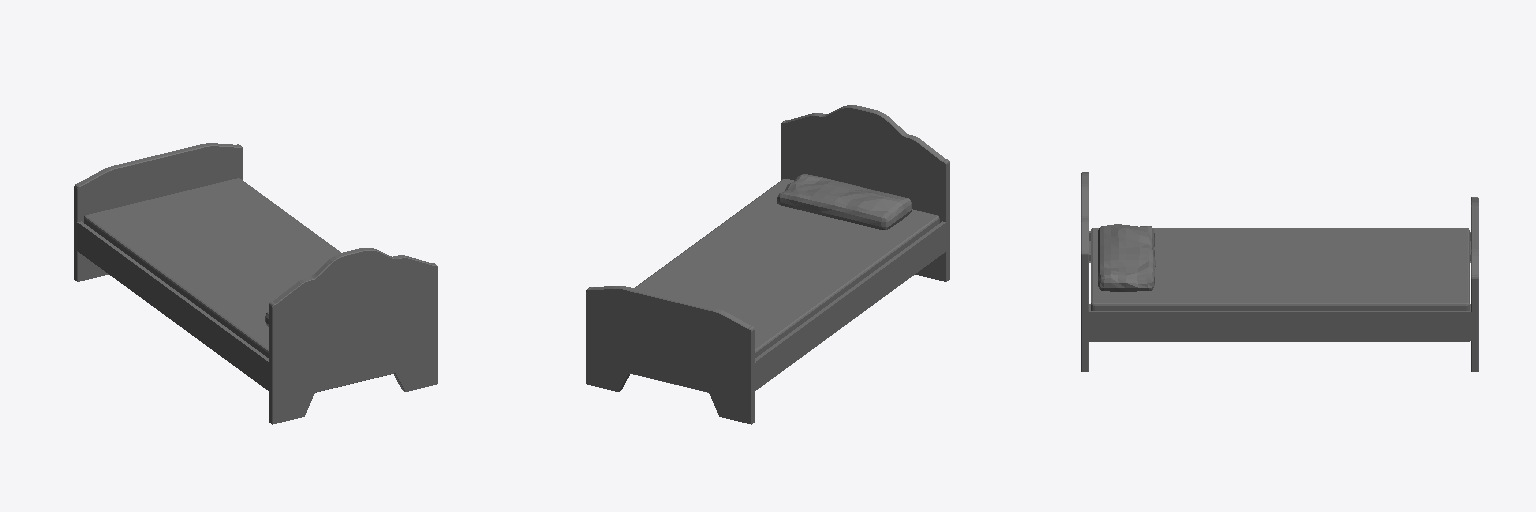
Rendered from Bed.obj.
3 views of the same model, side by side, from view 1: azimuth 30°, elevation 25°; view 2: azimuth 150°, elevation 25°; view 3: azimuth 270°, elevation 25° (orthographic).
Parts seen in each view (by area): view 1: Frame, Matress; view 2: Frame, Matress, Pillow; view 3: Matress, Frame, Pillow.
Part boxes in pixels (left/top/right/bottom): Frame: left=74, top=143, right=437, bottom=424; Matress: left=84, top=178, right=340, bottom=357; Frame: left=586, top=105, right=949, bottom=424; Matress: left=635, top=179, right=939, bottom=357; Pillow: left=777, top=174, right=911, bottom=229; Matress: left=1091, top=228, right=1469, bottom=310; Frame: left=1081, top=172, right=1478, bottom=371; Pillow: left=1098, top=224, right=1155, bottom=291.
Size of the model in its own units: 2.15 by 1.88 by 4.45.